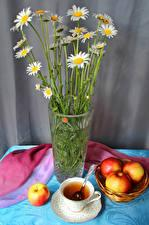chamomile: (98, 21, 119, 38), (15, 7, 32, 27), (71, 7, 89, 22), (68, 56, 90, 67), (97, 13, 114, 26), (69, 26, 88, 37), (26, 63, 43, 75), (76, 30, 95, 40), (18, 46, 31, 59), (32, 8, 50, 16), (47, 14, 61, 23)
